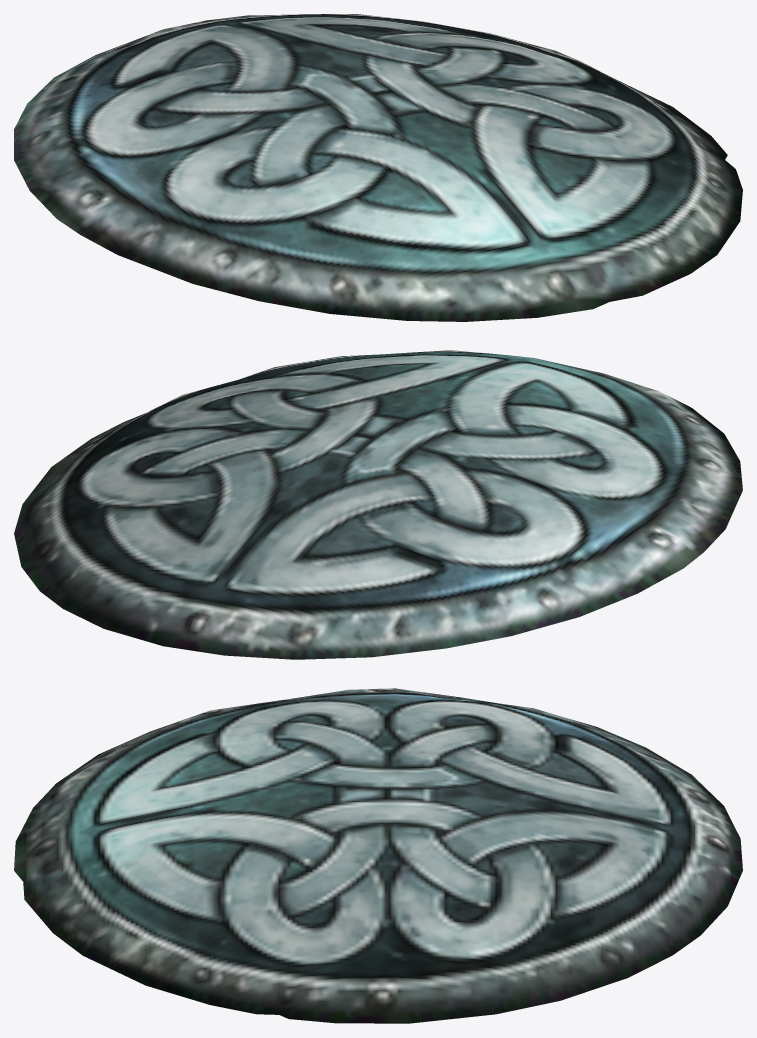
Rendered from item_sshield3.glb.
The picture shows the model from 3 angles, top to bottom: view 1: azimuth 30°, elevation 25°; view 2: azimuth 150°, elevation 25°; view 3: azimuth 270°, elevation 25°; orthographic projection. The views are drawn at different scales.
Visible parts, largest first — view 1: sshield3; view 2: sshield3; view 3: sshield3.
Boxes of the visible parts, x1,y1,x2,y2 form: sshield3: [14, 14, 742, 321]; sshield3: [14, 350, 742, 659]; sshield3: [14, 688, 742, 1023].
Size of the model in its own units: 1.48 by 0.222 by 1.58.
1 material, 1 textured.
